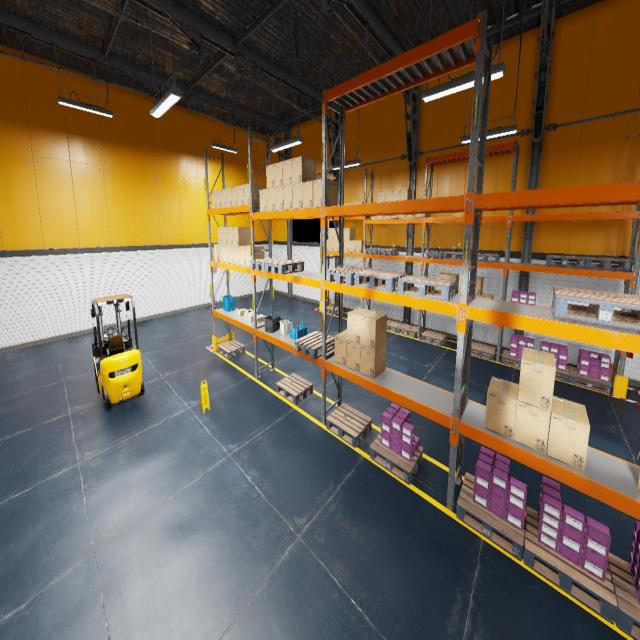box: (547, 395, 590, 471), (518, 347, 556, 412), (484, 376, 518, 440), (514, 395, 550, 454), (360, 310, 387, 350), (360, 342, 386, 379), (347, 308, 372, 344), (313, 178, 338, 208), (292, 156, 315, 184), (334, 330, 347, 366), (243, 183, 263, 205), (347, 340, 360, 372), (245, 245, 264, 266), (238, 246, 256, 266), (232, 227, 251, 245), (302, 180, 313, 208), (292, 182, 302, 208), (283, 158, 292, 186), (283, 184, 292, 210), (274, 161, 283, 187), (446, 274, 459, 291), (274, 186, 283, 210), (437, 272, 449, 290), (266, 164, 274, 188), (259, 188, 267, 212), (266, 188, 274, 211), (636, 451, 640, 491), (476, 277, 484, 295), (399, 189, 412, 200), (237, 185, 244, 205), (344, 228, 355, 240), (232, 186, 238, 206), (226, 187, 232, 207), (356, 240, 366, 252), (233, 246, 239, 264), (228, 245, 234, 263), (227, 227, 233, 245), (222, 227, 228, 245), (218, 245, 224, 262), (217, 227, 223, 244), (221, 188, 226, 208), (216, 190, 221, 208), (392, 190, 400, 201), (223, 245, 228, 262), (480, 293, 493, 299), (212, 190, 216, 208), (350, 240, 356, 252), (385, 191, 392, 201), (378, 192, 385, 202), (214, 243, 218, 260), (338, 240, 344, 251), (238, 308, 246, 316), (248, 314, 257, 321), (344, 240, 349, 252), (339, 228, 344, 240), (257, 314, 264, 322), (248, 308, 257, 314), (245, 309, 252, 316), (334, 228, 338, 240), (329, 228, 333, 240), (334, 240, 338, 251), (329, 240, 333, 251), (415, 214, 427, 217), (384, 215, 392, 219), (406, 215, 414, 218), (391, 215, 399, 218), (399, 215, 406, 218), (458, 292, 468, 294), (371, 216, 377, 219), (377, 216, 384, 218), (476, 294, 482, 296), (327, 239, 328, 250), (456, 290, 458, 293), (434, 286, 436, 289)
forklift: (90, 293, 144, 410)
pallets: (523, 507, 617, 623), (456, 472, 525, 561), (552, 286, 640, 330), (608, 552, 640, 640), (370, 432, 423, 484), (326, 403, 372, 447), (398, 275, 456, 301), (568, 366, 612, 394), (355, 269, 408, 292), (276, 373, 313, 404), (294, 331, 334, 359), (326, 266, 372, 285), (584, 256, 632, 270), (265, 260, 304, 274), (217, 339, 245, 358), (546, 254, 586, 266), (471, 342, 496, 361), (250, 258, 285, 271), (421, 330, 447, 346), (501, 349, 521, 368), (397, 323, 421, 338), (470, 253, 500, 263), (555, 363, 570, 382), (444, 251, 472, 260), (424, 251, 449, 259), (387, 320, 402, 332), (377, 248, 399, 256), (326, 305, 338, 315), (364, 248, 383, 254)
